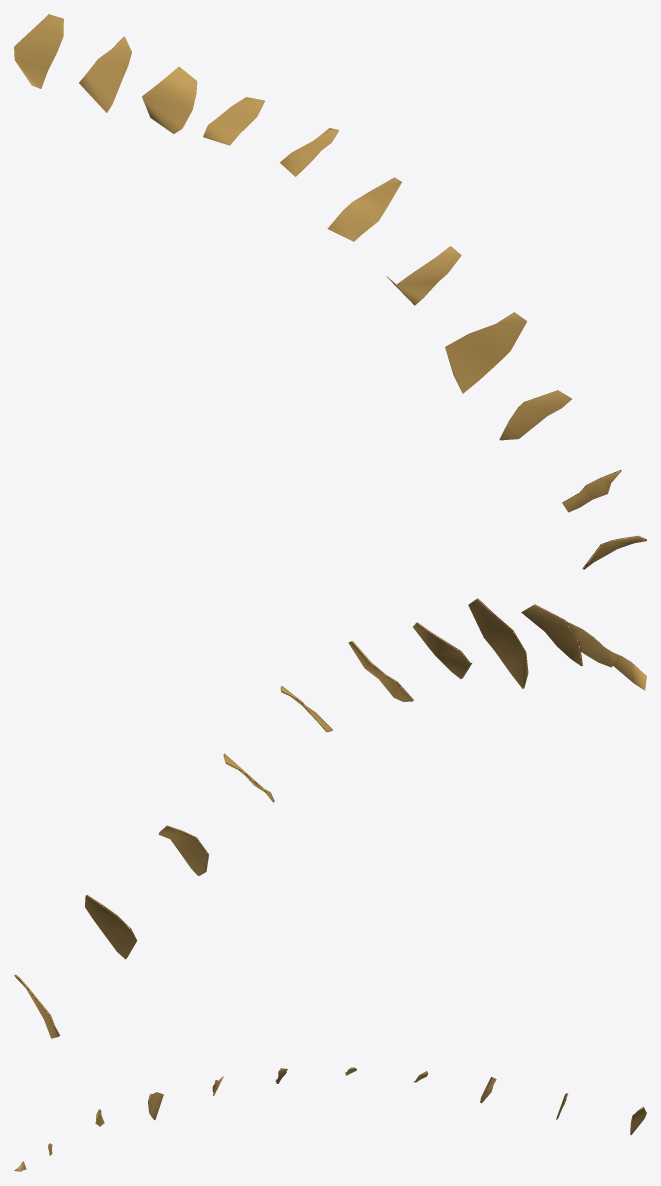
The picture shows the model from 3 angles, top to bottom: view 1: azimuth 30°, elevation 25°; view 2: azimuth 150°, elevation 25°; view 3: azimuth 270°, elevation 25°; orthographic projection. The views are drawn at different scales.
Parts seen in each view (by area): view 1: 左侧肋横突韧带; view 2: 左侧肋横突韧带; view 3: 左侧肋横突韧带.
Boxes of the visible parts, x1,y1,x2,y2 form: 左侧肋横突韧带: (14, 14, 646, 569); 左侧肋横突韧带: (14, 598, 646, 1038); 左侧肋横突韧带: (14, 1067, 646, 1171).
Bounding box in the file's own units: 0.0296 × 0.0784 × 0.3936.
